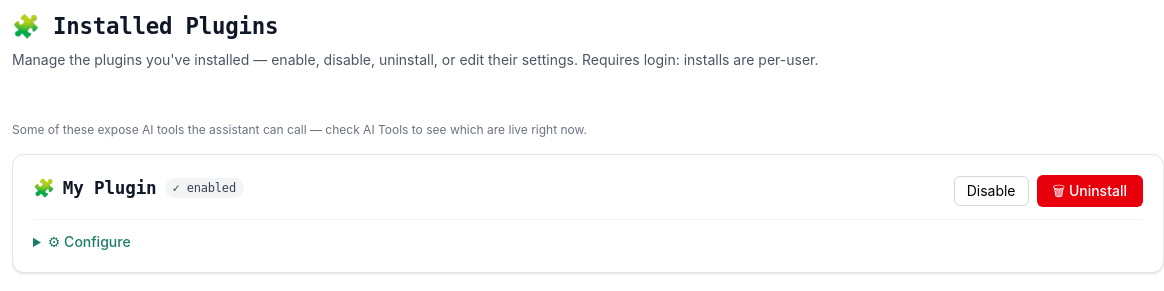
Test case: InstalledPluginsPage › removes an uninstalled plugin from the list without a re-fetch
Expected: the heading "🧩 My Plugin ✓ enabled" is shown, [33,175,244,201]
Click the button "🗑 Uninstall" at (1090, 191), box [1036,175,1143,207]
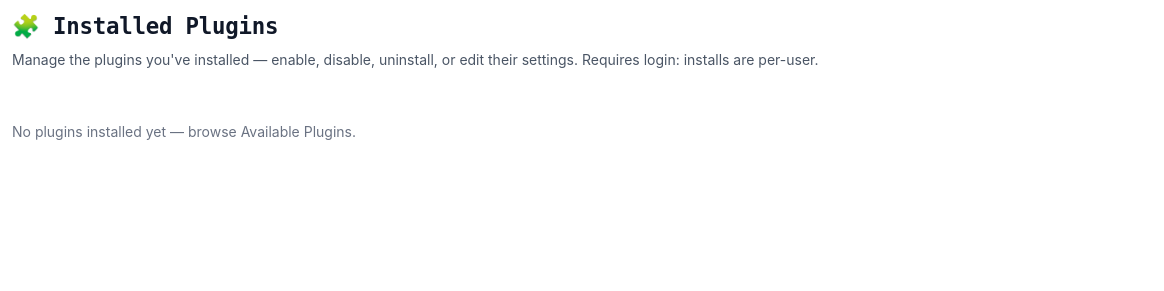
Expected: the heading "My Plugin" is gone
Expected: the link "browse Available Plugins" is shown, [188,123,352,140]
